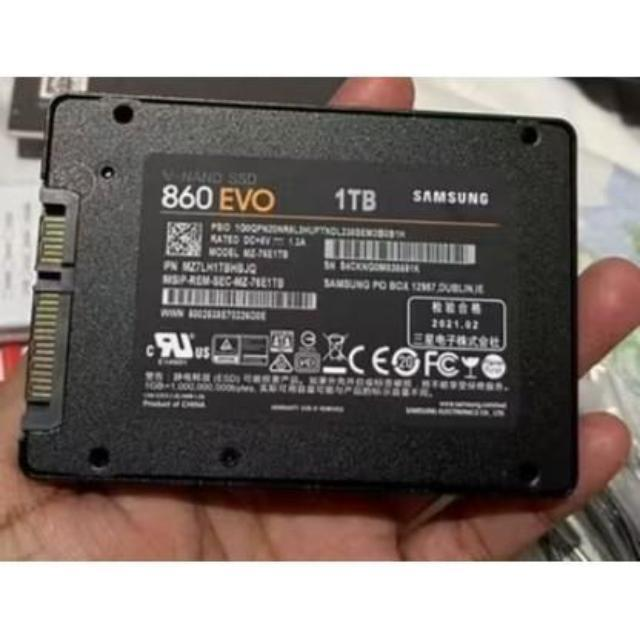DISK: (30, 84, 579, 510)
